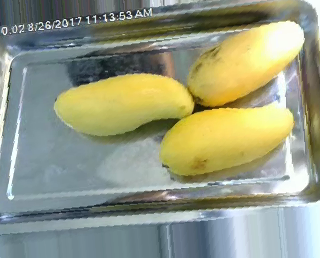Mango: (190, 21, 306, 107), (163, 102, 296, 176), (54, 71, 193, 134)
